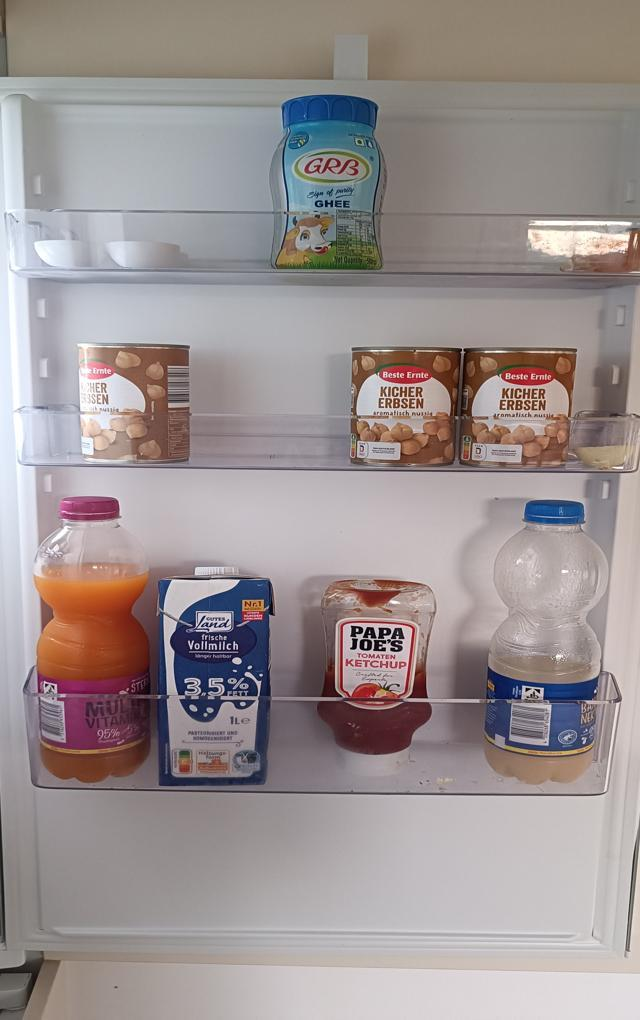bananajuice: (486, 499, 609, 785)
chickpeas: (77, 340, 193, 464), (462, 345, 577, 470), (349, 344, 459, 469)
ghee: (268, 93, 390, 274)
milk: (157, 566, 274, 791)
orangejuice: (31, 496, 152, 785)
tomatoketchup: (318, 576, 440, 781)
